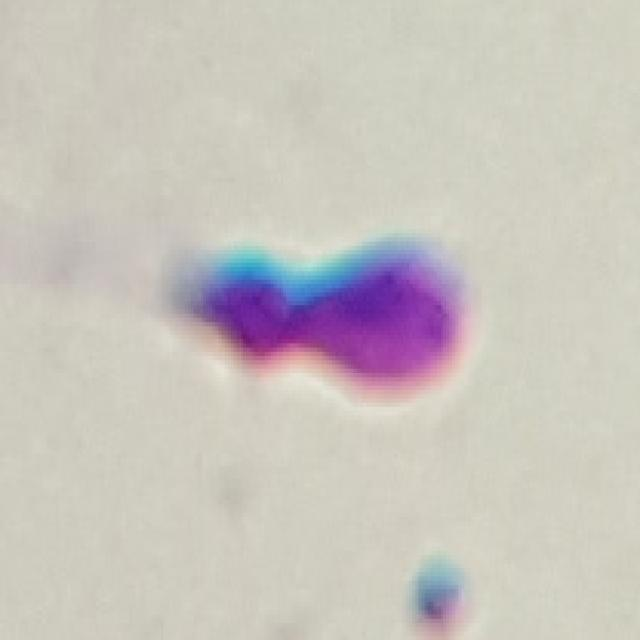abnormal sperm: (70, 162, 511, 434)
